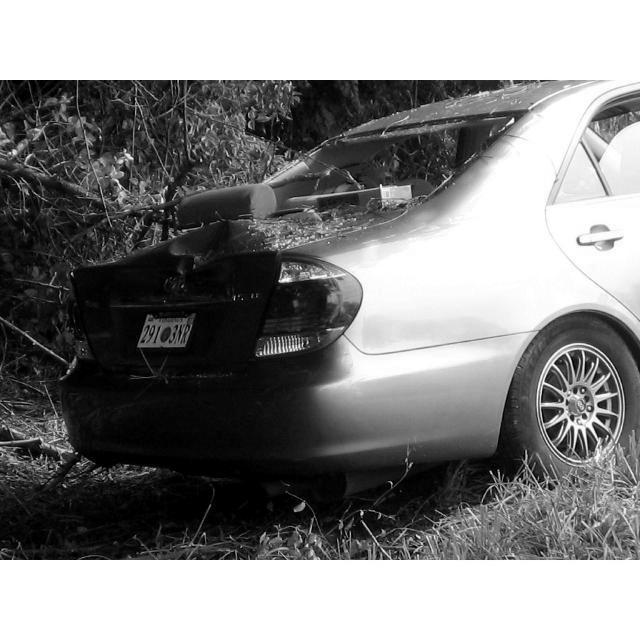Rear-windscreen-Damage: (263, 87, 518, 225)
rear-bumper-dent: (56, 206, 347, 437)
